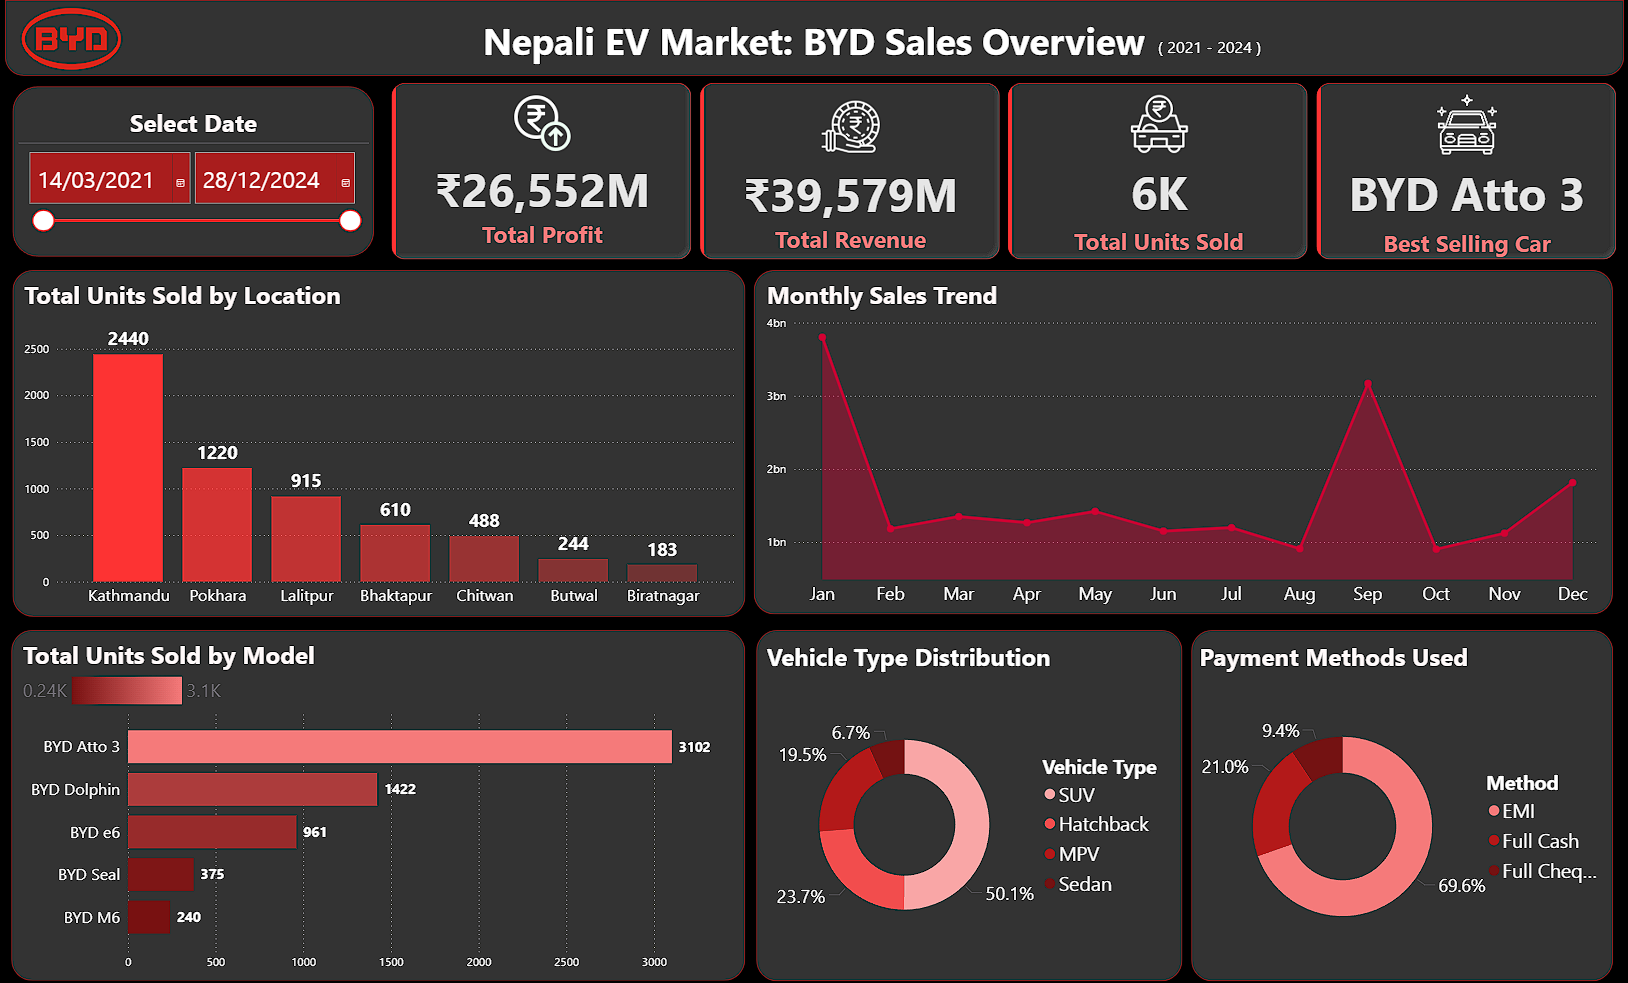

The page's visual inventory and layout, read from the dashboard file:
{"tool":"powerbi","page":{"name":"Page 3","canvas":[1880,1150],"ordinal":0},"visuals":[{"type":"shape","box":[870,314,998,400],"z":0},{"type":"shape","box":[7.5,732.5,852.5,407.5],"z":1000},{"type":"shape","box":[1378,732,490,408],"z":2000},{"type":"shape","box":[8.6,314.3,851.4,402.9],"z":3000},{"type":"shape","box":[872,732,495,408],"z":4000},{"type":"shape","box":[0,0,1980,87.5],"z":5000},{"type":"shape","box":[8,100,420,198],"z":6000},{"type":"textbox","box":[545,12.5,790,80],"z":7000},{"type":"textbox","box":[1335,32.5,150,42.5],"z":8000},{"type":"donutChart","title":"Payment Methods Used","fields":{"Y":["Sum(BYD_Sales_Dataset.Units Sold)"],"Category":["BYD_Sales_Dataset.Payment Method"]},"box":[1382,744,486,396],"z":9000},{"type":"image","box":[8,4,136,82],"z":10000},{"type":"cardVisual","fields":{"Data":["Sum(BYD_Sales_Dataset.Profit)","Sum(BYD_Sales_Dataset.Total Revenue)","Sum(BYD_Sales_Dataset.Units Sold)","BYD_Sales_Dataset.BestSellingCar"]},"box":[436,92,1432,216],"z":11000},{"type":"lineChart","title":"Monthly Sales Trend","fields":{"Y":["Sum(BYD_Sales_Dataset.Price (NPR))"],"Category":["BYD_Sales_Dataset.MonthShort"]},"box":[880,322,978,392],"z":12000},{"type":"clusteredColumnChart","title":"Total Units Sold by Location","fields":{"Category":["BYD_Sales_Dataset.Location"],"Y":["Sum(BYD_Sales_Dataset.Units Sold)"]},"box":[17.5,322.5,835,392.5],"z":13000},{"type":"barChart","title":"Total Units Sold by Model","fields":{"Category":["BYD_Sales_Dataset.Model","BYD_Sales_Dataset.Payment Method"],"Y":["Sum(BYD_Sales_Dataset.Units Sold)"]},"box":[16,740,826,396],"z":14000},{"type":"donutChart","title":"Vehicle Type Distribution","fields":{"Y":["CountNonNull(BYD_Sales_Dataset.Vehicle Type)"],"Category":["BYD_Sales_Dataset.Vehicle Type"]},"box":[880,744,482,392],"z":15000},{"type":"slicer","title":"Select Date","fields":{"Values":["BYD_Sales_Dataset.Sale Date"]},"box":[16,124,406,152],"z":16000}]}

Visuals, with their boxes in screenshot pixels (x1, y1, x2, y2), scaled from the page's 1880x1150 canvas onto the 1628x983 screenshot:
shape: x1=753, y1=268, x2=1618, y2=610
shape: x1=6, y1=626, x2=745, y2=974
shape: x1=1193, y1=626, x2=1618, y2=974
shape: x1=7, y1=269, x2=745, y2=613
shape: x1=755, y1=626, x2=1184, y2=974
shape: x1=0, y1=0, x2=1627, y2=75
shape: x1=7, y1=85, x2=371, y2=255
textbox: x1=472, y1=11, x2=1156, y2=79
textbox: x1=1156, y1=28, x2=1286, y2=64
"Payment Methods Used" donutChart: x1=1197, y1=636, x2=1618, y2=974
image: x1=7, y1=3, x2=125, y2=74
cardVisual - Sum(BYD_Sales_Dataset.Profit) x Sum(BYD_Sales_Dataset.Total Revenue): x1=378, y1=79, x2=1618, y2=263
"Monthly Sales Trend" lineChart: x1=762, y1=275, x2=1609, y2=610
"Total Units Sold by Location" clusteredColumnChart: x1=15, y1=276, x2=738, y2=611
"Total Units Sold by Model" barChart: x1=14, y1=633, x2=729, y2=971
"Vehicle Type Distribution" donutChart: x1=762, y1=636, x2=1179, y2=971
"Select Date" slicer: x1=14, y1=106, x2=365, y2=236
